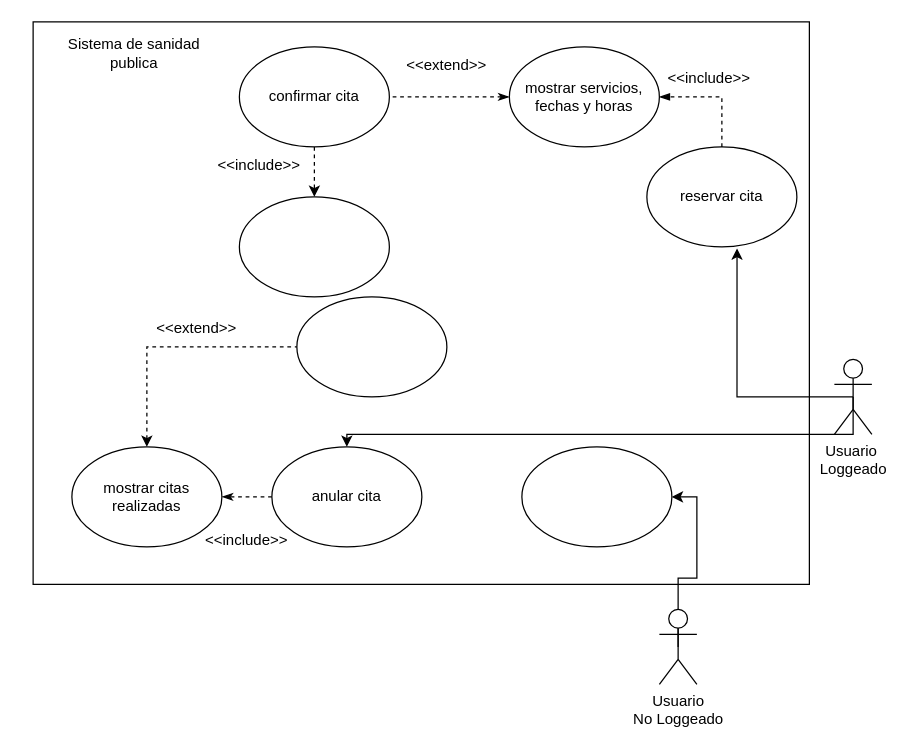
This 908x751 diagram has some shape labels left out. The centre of each missing label's shape, as x and y in pixels:
"autenticarse" goes at point 596,496.
"Confirmar" goes at point 371,346.
"generar justificante en pdf" goes at point 313,246.
